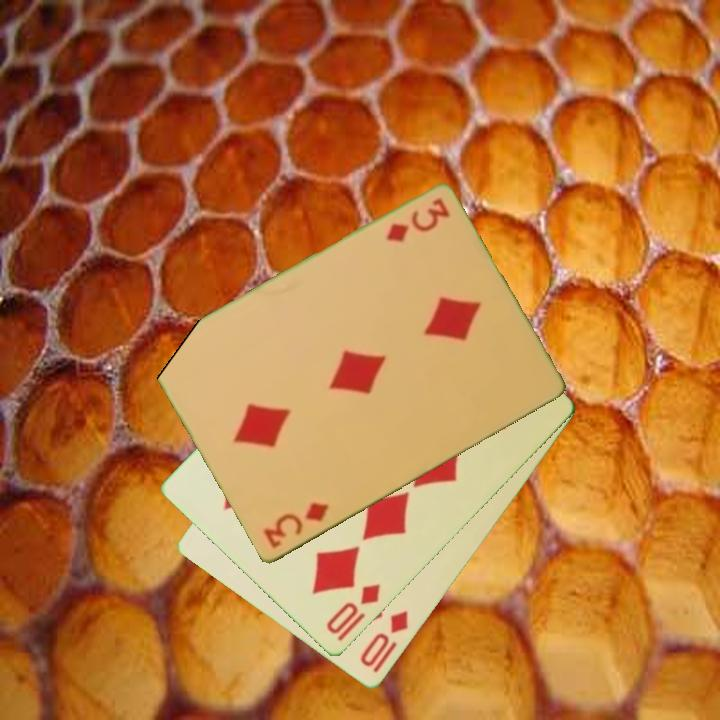10d: (322, 580, 384, 645), (356, 607, 412, 671)
3d: (259, 499, 331, 552), (382, 195, 453, 247)
